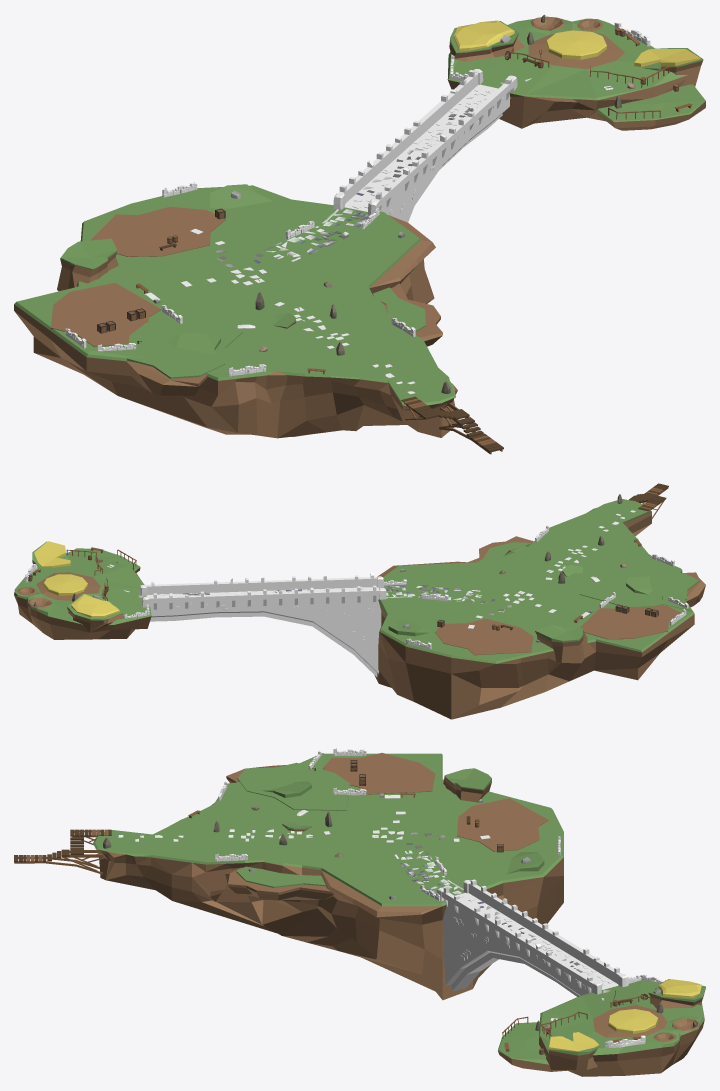
File: SM_00 initial Houses.fbx
3 views of the same model, one above another, from view 1: azimuth 30°, elevation 25°; view 2: azimuth 150°, elevation 25°; view 3: azimuth 270°, elevation 25° (orthographic). The views are drawn at different scales.
Visible parts, largest first — view 1: Island01.001, Island02.001, BRIDGE.001, Ground.001, ground.001, STREET_stones.001, Dock.001, wheatField.005, wheatField.004, wheatField.007; view 2: Island01.001, BRIDGE.001, Island02.001, Ground.001, ground.001, STREET_stones.001, wheatField.005, wheatField.004, wheatField.007, Dock.001; view 3: Island01.001, Island02.001, BRIDGE.001, Ground.001, ground.001, Dock.001, STREET_stones.001, wheatField.005, wheatField.004, wheatField.007.
Part boxes in pixels (x1,y1,x2,y2): Island01.001: [14, 184, 457, 438]; Island02.001: [447, 16, 705, 130]; BRIDGE.001: [333, 69, 517, 222]; Ground.001: [90, 206, 225, 256]; ground.001: [50, 282, 161, 346]; STREET_stones.001: [144, 209, 415, 394]; Dock.001: [401, 396, 503, 454]; wheatField.005: [546, 30, 606, 59]; wheatField.004: [453, 20, 514, 51]; wheatField.007: [634, 49, 700, 66]; Island01.001: [374, 499, 705, 719]; BRIDGE.001: [139, 573, 386, 676]; Island02.001: [14, 541, 151, 639]; Ground.001: [435, 618, 533, 655]; ground.001: [580, 605, 680, 639]; STREET_stones.001: [383, 510, 635, 628]; wheatField.005: [43, 574, 87, 595]; wheatField.004: [71, 594, 119, 617]; wheatField.007: [34, 541, 70, 567]; Dock.001: [629, 483, 668, 518]; Island01.001: [93, 753, 563, 1000]; Island02.001: [498, 980, 705, 1076]; BRIDGE.001: [437, 879, 628, 996]; Ground.001: [457, 798, 548, 851]; ground.001: [323, 752, 435, 794]; Dock.001: [14, 829, 111, 874]; STREET_stones.001: [118, 795, 490, 895]; wheatField.005: [608, 1009, 658, 1033]; wheatField.004: [658, 979, 701, 998]; wheatField.007: [549, 1032, 598, 1051].
Bounding box in the file's own units: 7526 × 1398 × 7151.
